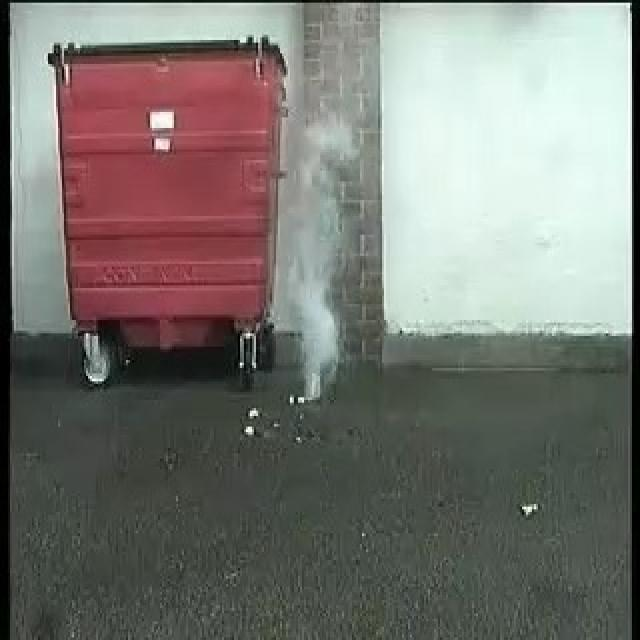smoke: (283, 69, 359, 390)
